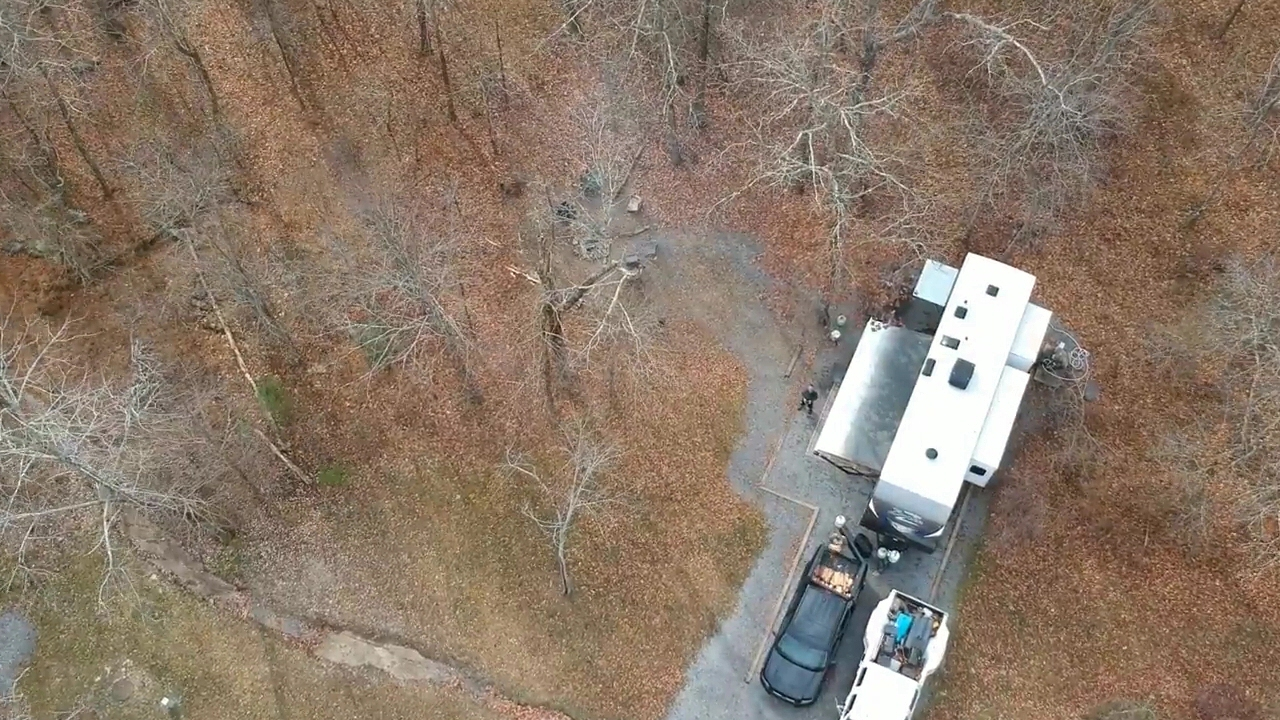araba: (760, 532, 875, 708)
insan: (796, 379, 819, 415)
kamyonet: (840, 589, 960, 720)
